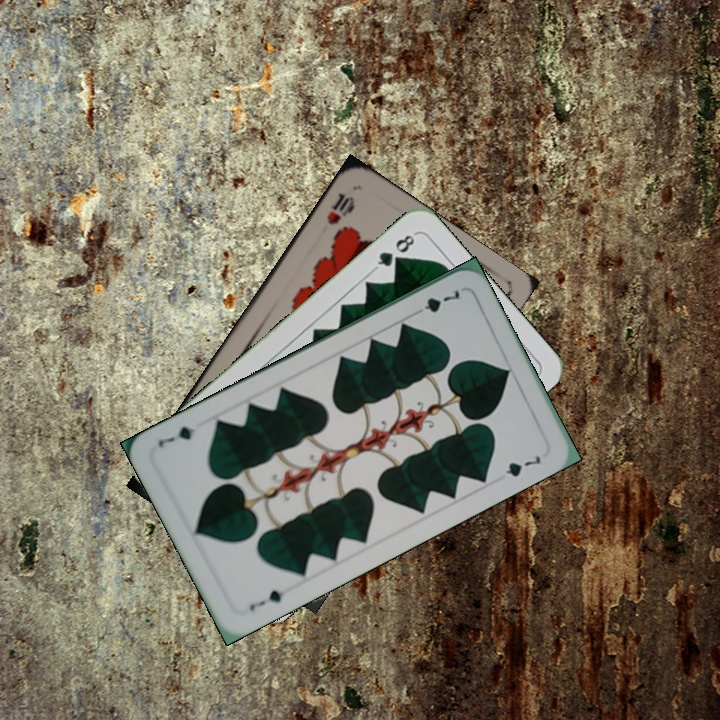G7: (408, 285, 463, 318), (245, 586, 286, 614)
G8: (370, 229, 419, 273)
H10: (322, 189, 357, 228)
